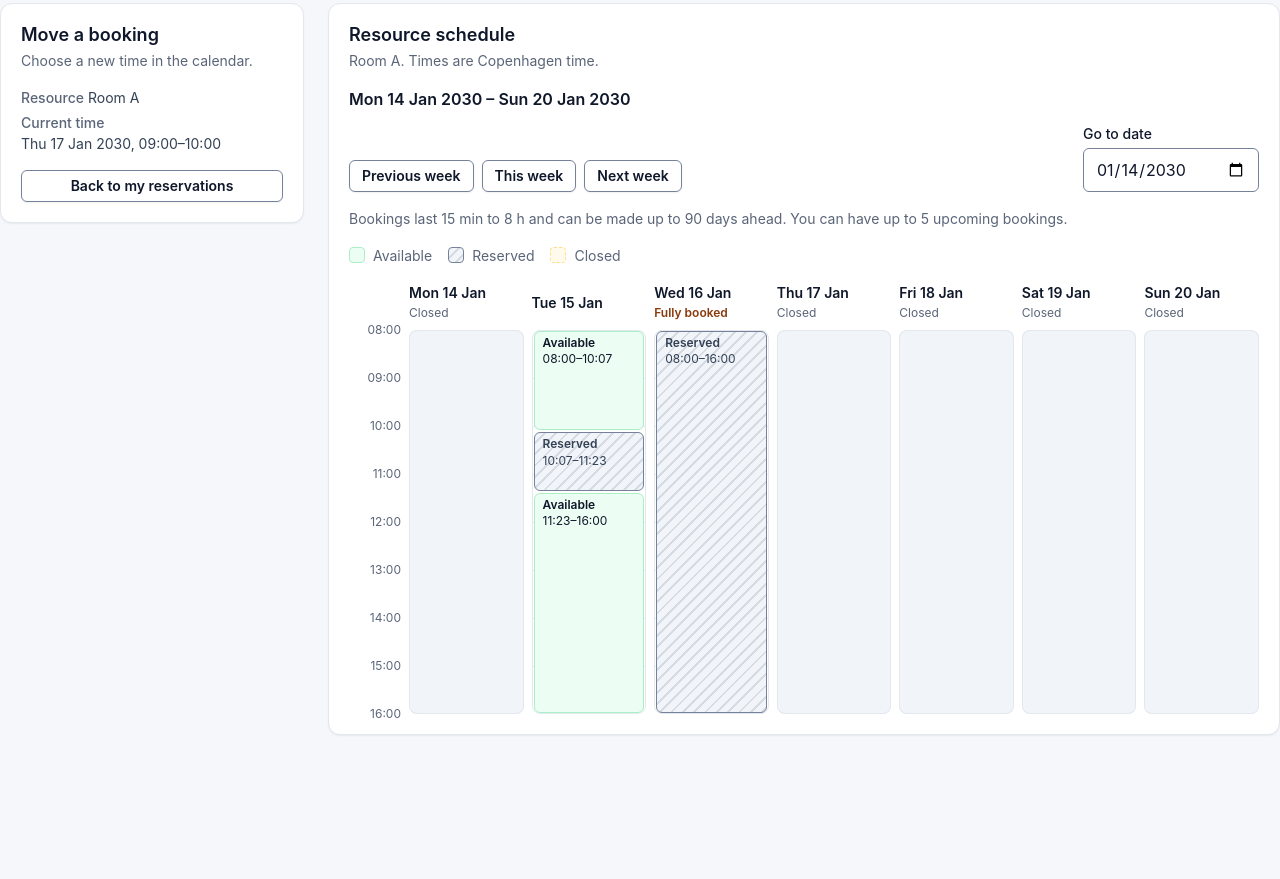
Test: BookingPage moving a booking › reloads when the booking was changed meanwhile
The width and height of the screenshot is (1280, 879).
Expected: the text "Thu 17 Jan 2030, 09:00–10:00" is shown, [21,133,221,154]
Click the button with aria-label "Available Tue 15 Jan 2030, 08:00–10:07. Choose a time" at (589, 380), box [534,331,644,430]
(page scrolled)
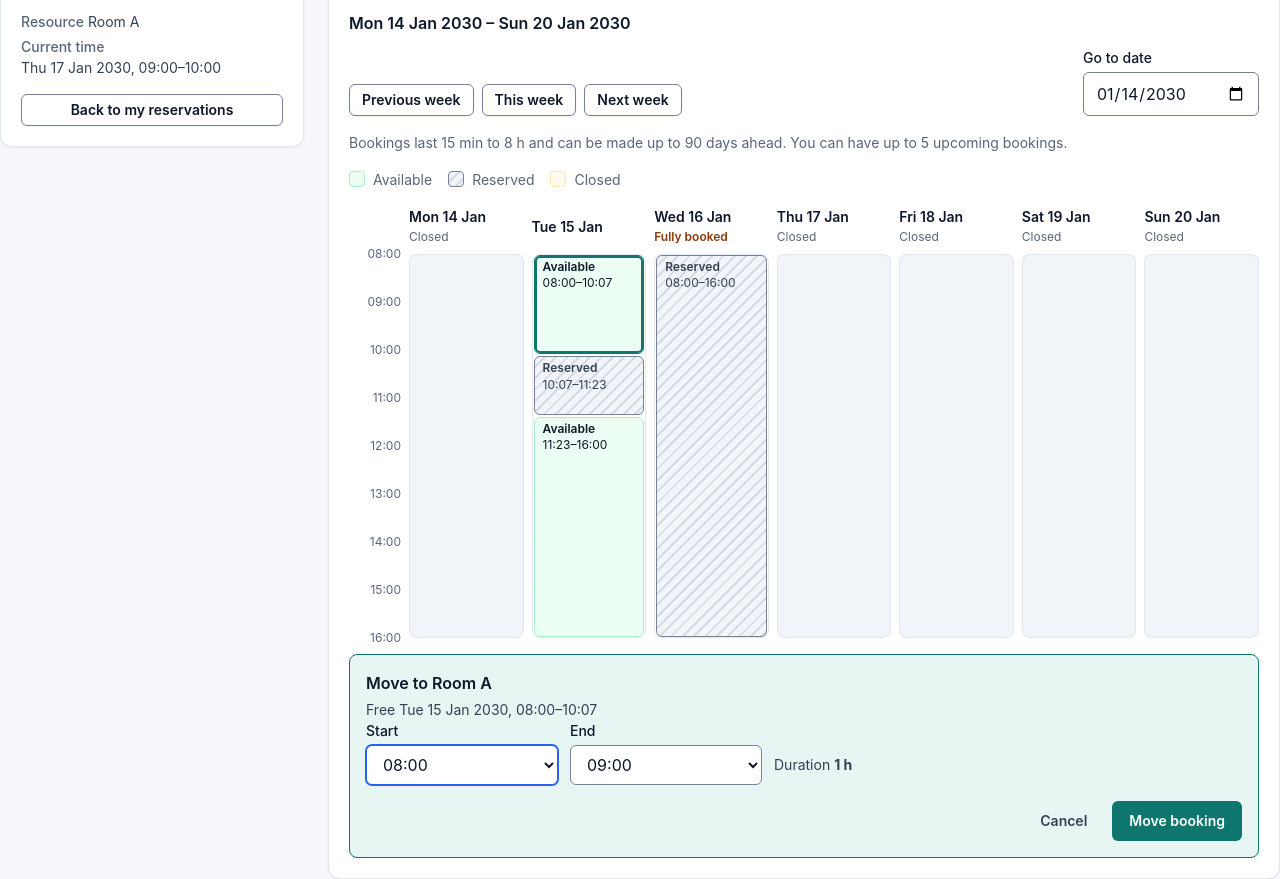
Click the button "Move booking" at (1177, 821), box [1112,801,1242,841]
(page scrolled)
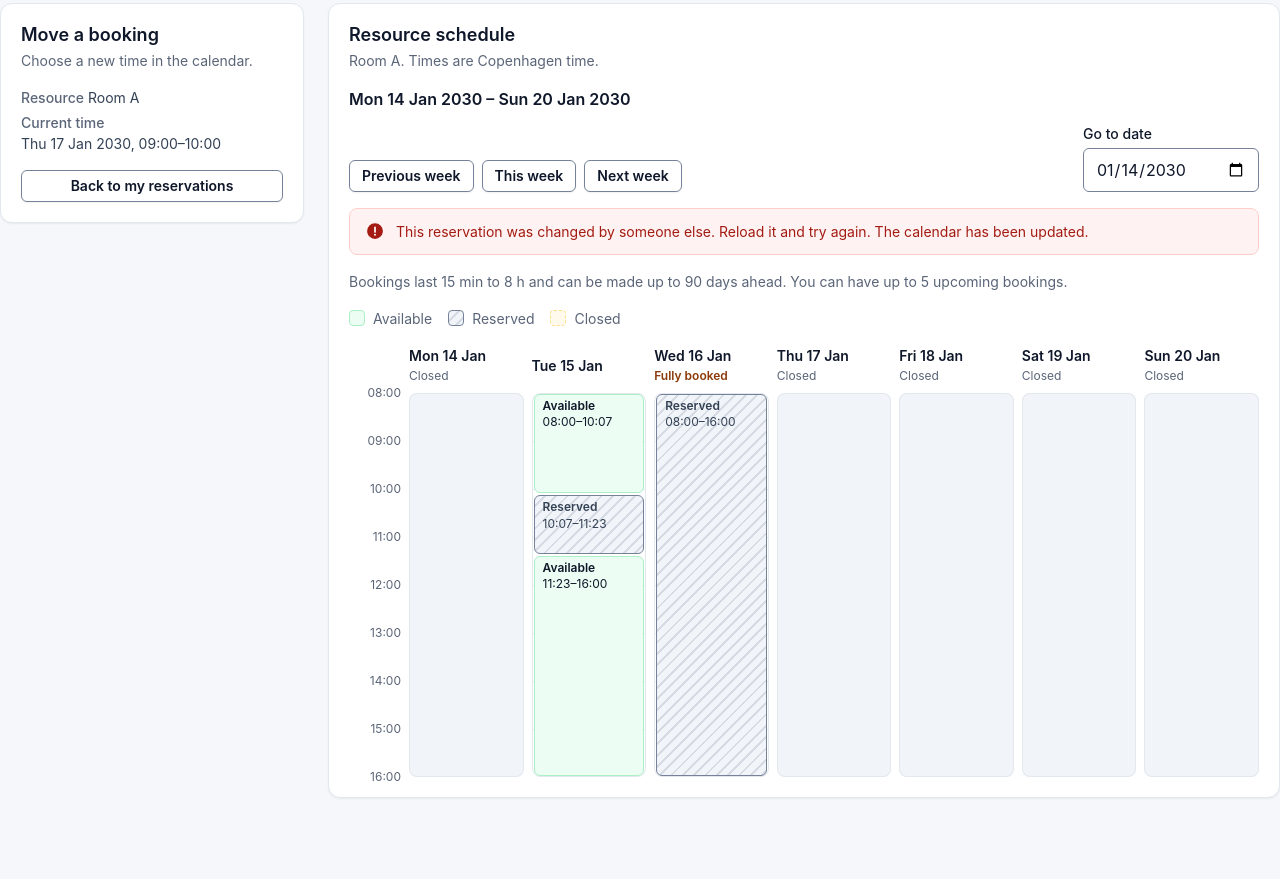
Expected: the message shows "This reservation was changed by someone else. Reload it and try again. The calendar has been updated.", [396,223,1089,240]
